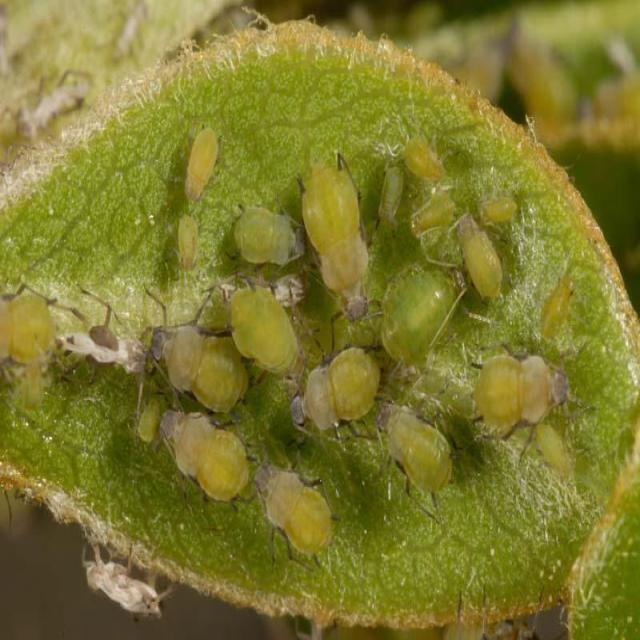Aphids: (452, 327, 608, 488), (295, 139, 382, 331), (152, 396, 274, 524), (144, 309, 259, 430), (361, 399, 459, 519), (249, 450, 336, 573), (287, 344, 390, 444), (217, 271, 305, 387)
